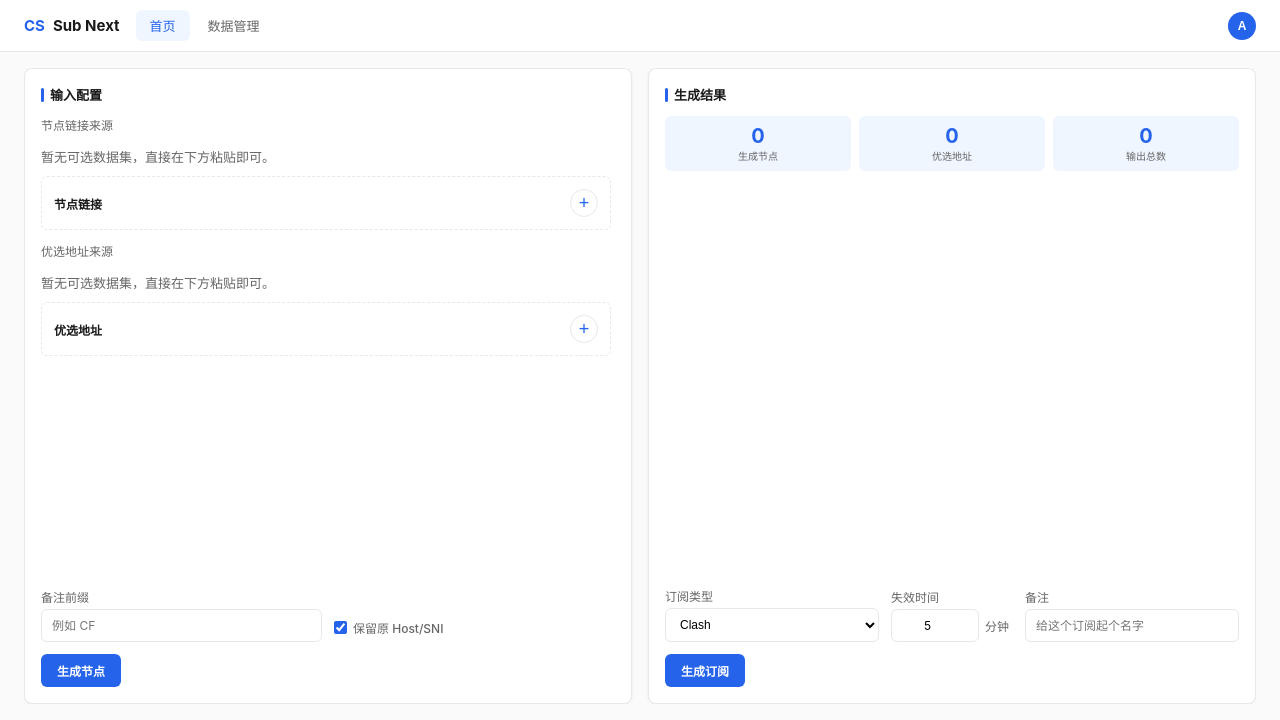
Test case: app shell › renders a compact account menu for authenticated pages
Expected: the link "首页" is shown, x1=136 y1=10 x2=190 y2=41
Expected: the link "数据管理" is shown, x1=208 y1=18 x2=260 y2=34
Click the button named "打开账户菜单" at (1242, 26), box x1=1228 y1=12 x2=1256 y2=40
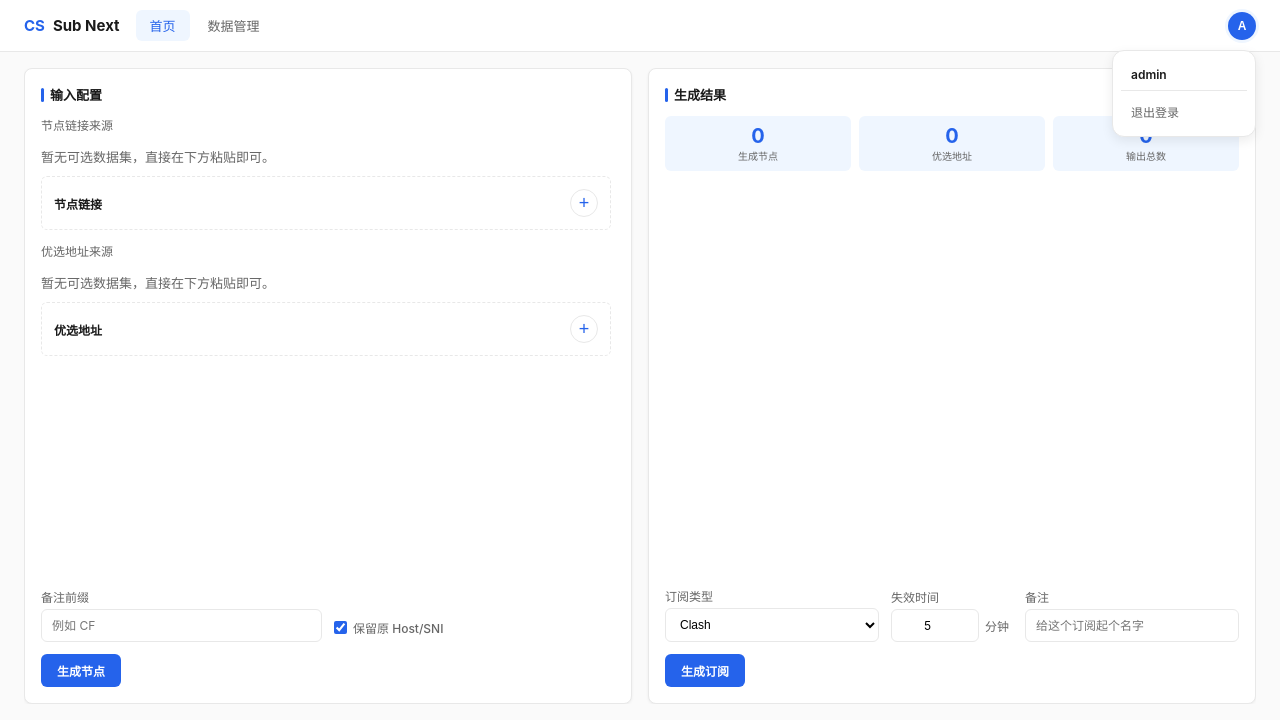
Expected: the text "admin" is shown, x1=1121 y1=58 x2=1247 y2=90
Expected: the menu item "退出登录" is shown, x1=1121 y1=94 x2=1247 y2=128
